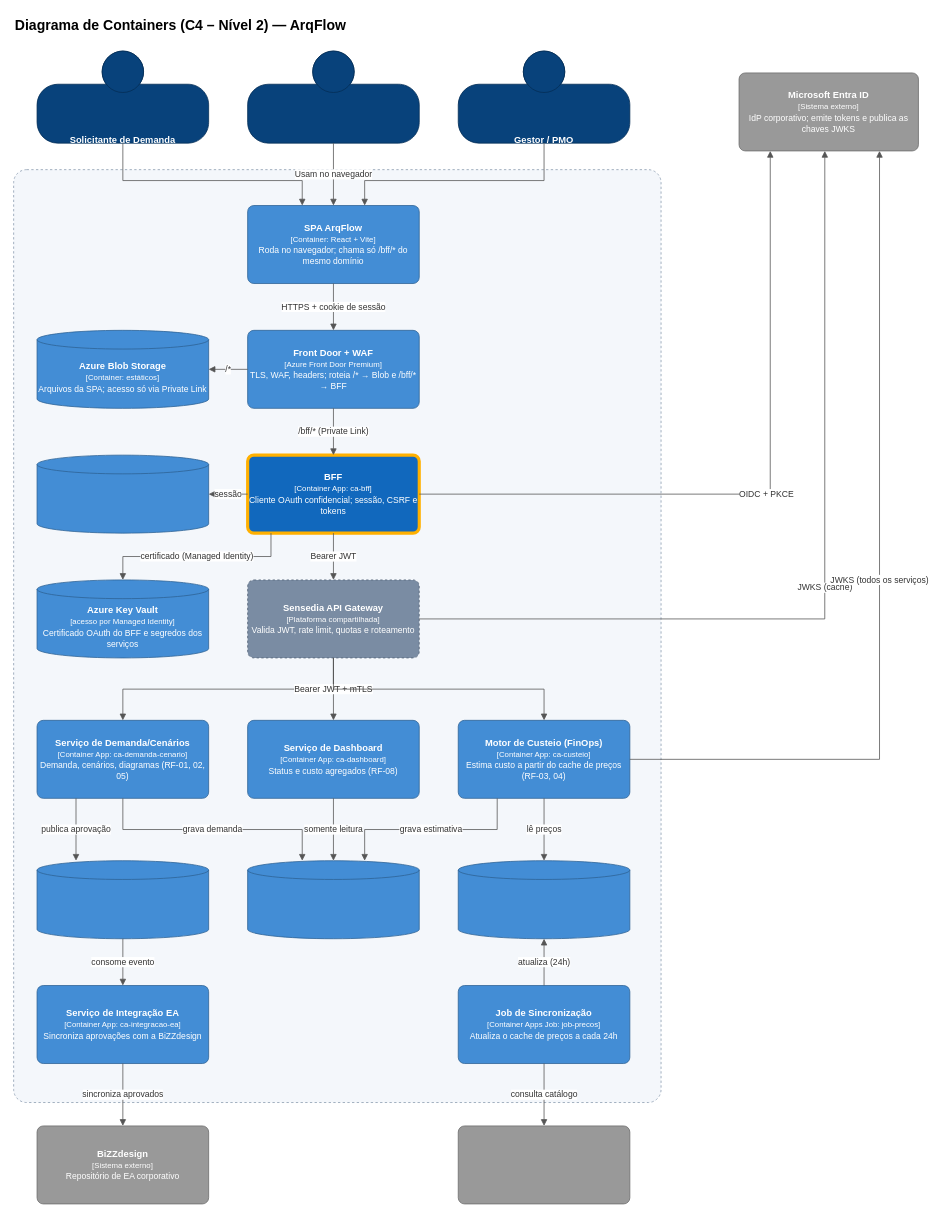
This 942x1218 diagram has some shape labels left out. The box of each missing label's shape, as (x1, y1, x2, y2) in pixels:
APIs de Precificação [Sistema externo] AWS / Azure / GCP — catálogo público: (457, 1125, 630, 1204)
ArqFlow [Sistema de software — Azure]: (13, 169, 661, 1103)
Arquiteto de Soluções [Pessoa] Cenários, custo, aprovação: (247, 50, 419, 143)
Banco de Dados [Azure SQL Database] Demandas, cenários, diagramas e estimativas: (247, 860, 419, 939)
Barramento de Eventos [Azure Service Bus] Tópico de aprovação + DLQ (ADR-0003): (36, 860, 209, 939)
Cache de Preços [Azure Managed Redis] Tabela de preços normalizada (ADR-0004): (457, 860, 630, 939)
Cache de Sessão [Azure Managed Redis] Tokens por sessão, criptografados, com TTL: (36, 454, 209, 533)
